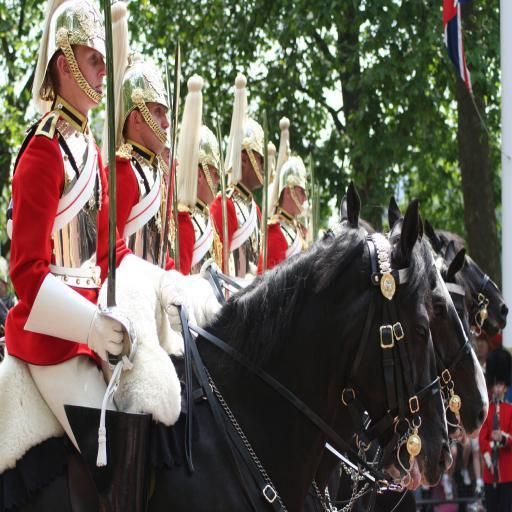horse: (0, 177, 454, 511), (230, 194, 488, 512), (415, 216, 508, 351)
